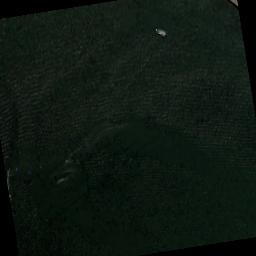boat: (156, 26, 166, 37)
